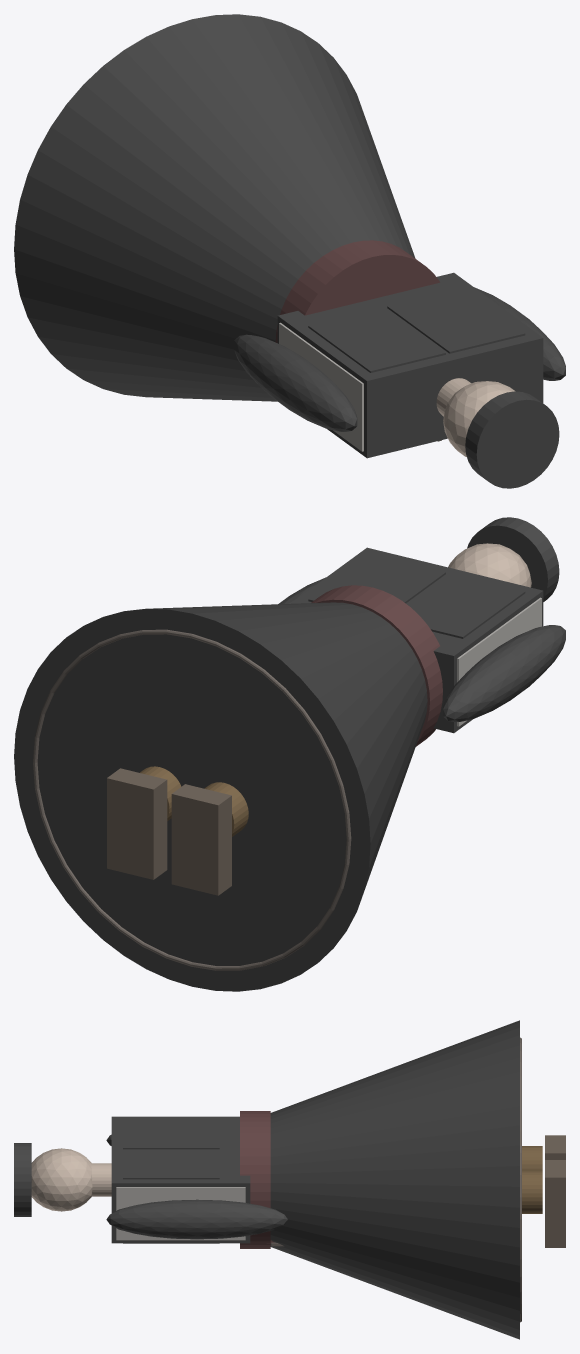
The model's file is MASTER_104_STAGE3_DETAIL.glb.
3 views of the same model, one above another, from view 1: azimuth 30°, elevation 25°; view 2: azimuth 150°, elevation 25°; view 3: azimuth 270°, elevation 25° (orthographic). The views are drawn at different scales.
Visible parts, largest first — view 1: slot_lower_main__fund_i_gjatë, slot_upper_inner__këmishë, slot_waist__brez, slot_headwear__mbulesë_koke, slot_upper_inner_sleeve_L, slot_upper_outer__jelek/xhamadan_R, slot_upper_outer__jelek/xhamadan_L, mannequin_torso, mannequin_head, slot_upper_inner_sleeve_R; view 2: slot_lower_main__fund_i_gjatë, slot_footwear__opinga_R, slot_footwear__opinga_L, slot_upper_inner_sleeve_L, detail_skirt_hem, slot_upper_inner__këmishë, slot_waist__brez, slot_upper_outer__jelek/xhamadan_L, slot_headwear__mbulesë_koke, slot_upper_outer__jelek/xhamadan_R, mannequin_head, mannequin_torso (+2 smaller); view 3: slot_lower_main__fund_i_gjatë, slot_upper_inner_sleeve_R, slot_upper_inner__këmishë, mannequin_head, slot_upper_outer__jelek/xhamadan_R, slot_waist__brez, slot_upper_outer__jelek/xhamadan_L, mannequin_torso, slot_footwear__opinga_R, slot_headwear__mbulesë_koke, slot_legwear__çorape_R, mannequin_neck (+3 smaller).
Boxes of the visible parts, <box> form: slot_lower_main__fund_i_gjatë: <box>14,14,415,401</box>; slot_upper_inner__këmishë: <box>277,272,543,458</box>; slot_waist__brez: <box>275,240,439,342</box>; slot_headwear__mbulesë_koke: <box>465,391,559,488</box>; slot_upper_inner_sleeve_L: <box>234,334,357,431</box>; slot_upper_outer__jelek/xhamadan_R: <box>387,288,525,353</box>; slot_upper_outer__jelek/xhamadan_L: <box>308,307,445,372</box>; mannequin_torso: <box>279,322,363,451</box>; mannequin_head: <box>443,381,515,456</box>; slot_upper_inner_sleeve_R: <box>474,287,565,380</box>; slot_lower_main__fund_i_gjatë: <box>14,602,427,991</box>; slot_footwear__opinga_R: <box>107,768,167,879</box>; slot_footwear__opinga_L: <box>171,784,231,895</box>; slot_upper_inner_sleeve_L: <box>443,625,565,721</box>; detail_skirt_hem: <box>33,629,351,970</box>; slot_upper_inner__këmishë: <box>290,547,543,733</box>; slot_waist__brez: <box>311,585,442,746</box>; slot_upper_outer__jelek/xhamadan_L: <box>407,573,525,638</box>; slot_headwear__mbulesë_koke: <box>467,517,559,601</box>; slot_upper_outer__jelek/xhamadan_R: <box>308,553,445,603</box>; mannequin_head: <box>448,543,531,587</box>; mannequin_torso: <box>457,597,541,726</box>; slot_lower_main__fund_i_gjatë: <box>270,1020,519,1339</box>; slot_upper_inner_sleeve_R: <box>106,1199,287,1239</box>; slot_upper_inner__këmishë: <box>111,1116,250,1243</box>; mannequin_head: <box>31,1148,92,1211</box>; slot_upper_outer__jelek/xhamadan_R: <box>123,1149,219,1243</box>; slot_waist__brez: <box>240,1111,270,1248</box>; slot_upper_outer__jelek/xhamadan_L: <box>123,1119,219,1149</box>; mannequin_torso: <box>116,1187,245,1240</box>; slot_footwear__opinga_R: <box>545,1160,565,1247</box>; slot_headwear__mbulesë_koke: <box>14,1143,31,1216</box>; slot_legwear__çorape_R: <box>522,1170,542,1213</box>; mannequin_neck: <box>91,1163,111,1196</box>.
Size of the model in its own units: 0.9905 by 0.9905 by 1.71.
